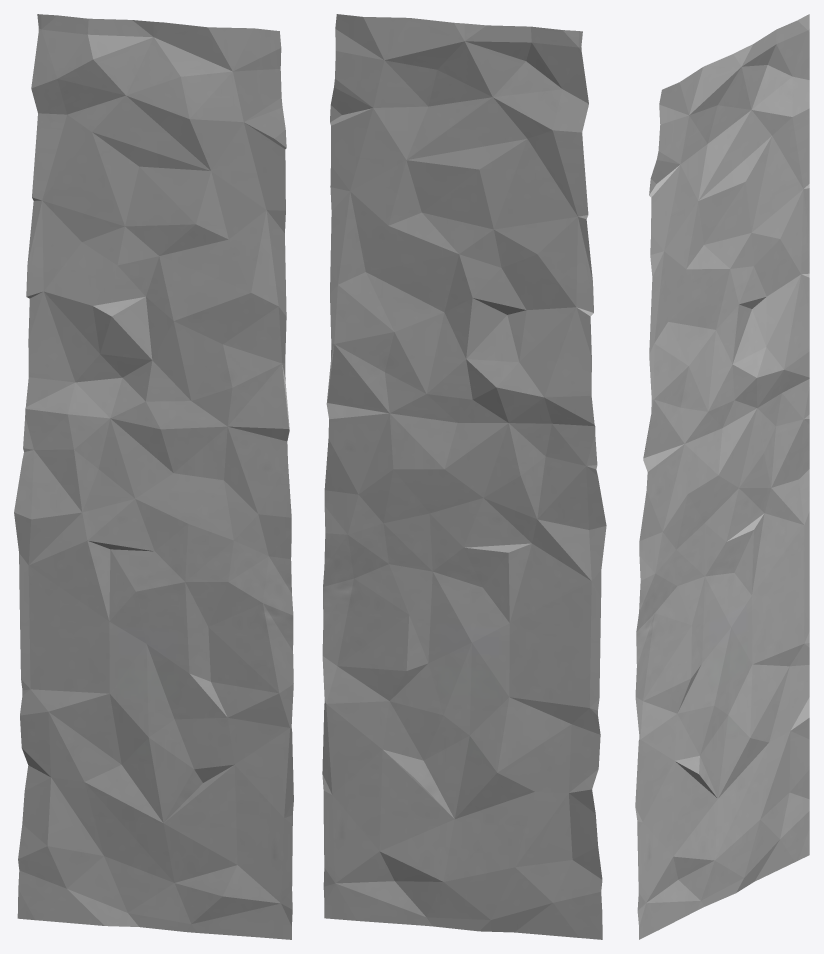
The picture shows the model from 3 angles, left to right: view 1: azimuth 30°, elevation 25°; view 2: azimuth 210°, elevation 25°; view 3: azimuth 270°, elevation 25°; orthographic projection. The views are drawn at different scales.
Bounding box in the file's own units: 0.3653 × 1.67 × 0.3115.
1 material, 1 textured.
